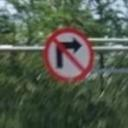NoVirarDireita: (45, 29, 93, 85)
